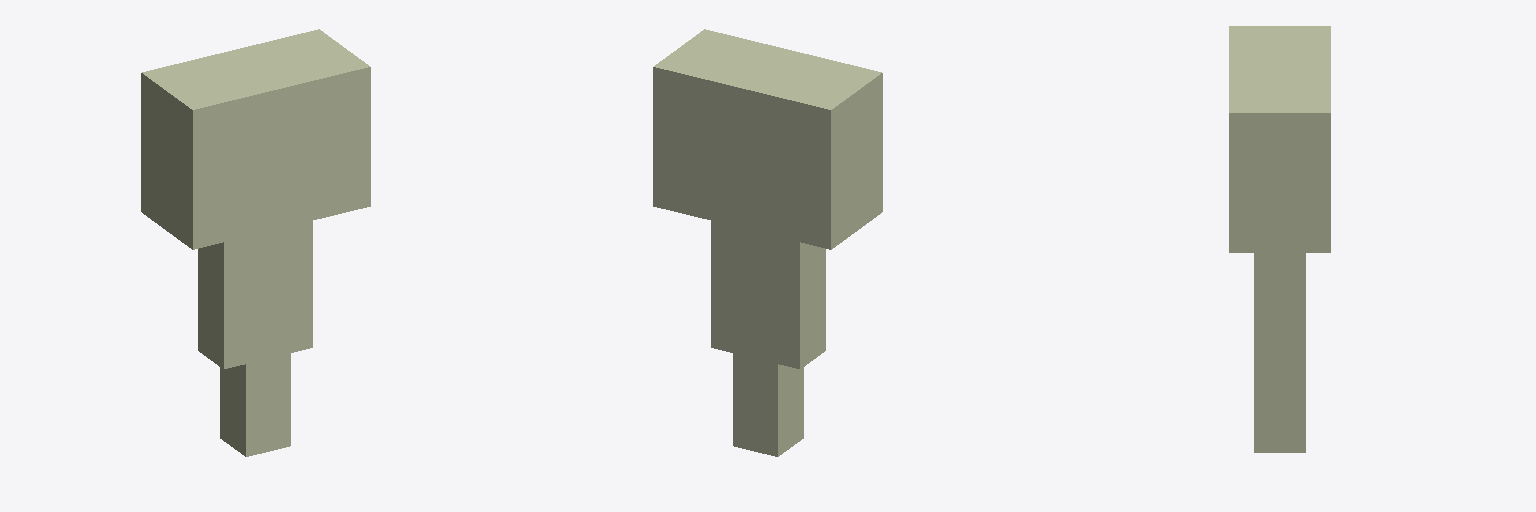
The model's file is machine_assembler_arm.obj.
3 renders of one model, left to right at view 1: azimuth 30°, elevation 25°; view 2: azimuth 150°, elevation 25°; view 3: azimuth 270°, elevation 25°, orthographic.
Parts seen in each view (by area): view 1: Cube.002; view 2: Cube.002; view 3: Cube.002.
Part boxes in pixels (x1,y1,x2,y2): Cube.002: (141, 29, 370, 456); Cube.002: (653, 29, 882, 456); Cube.002: (1229, 26, 1330, 452).
Bounding box in the file's own units: 0.25 × 0.5 × 0.125.